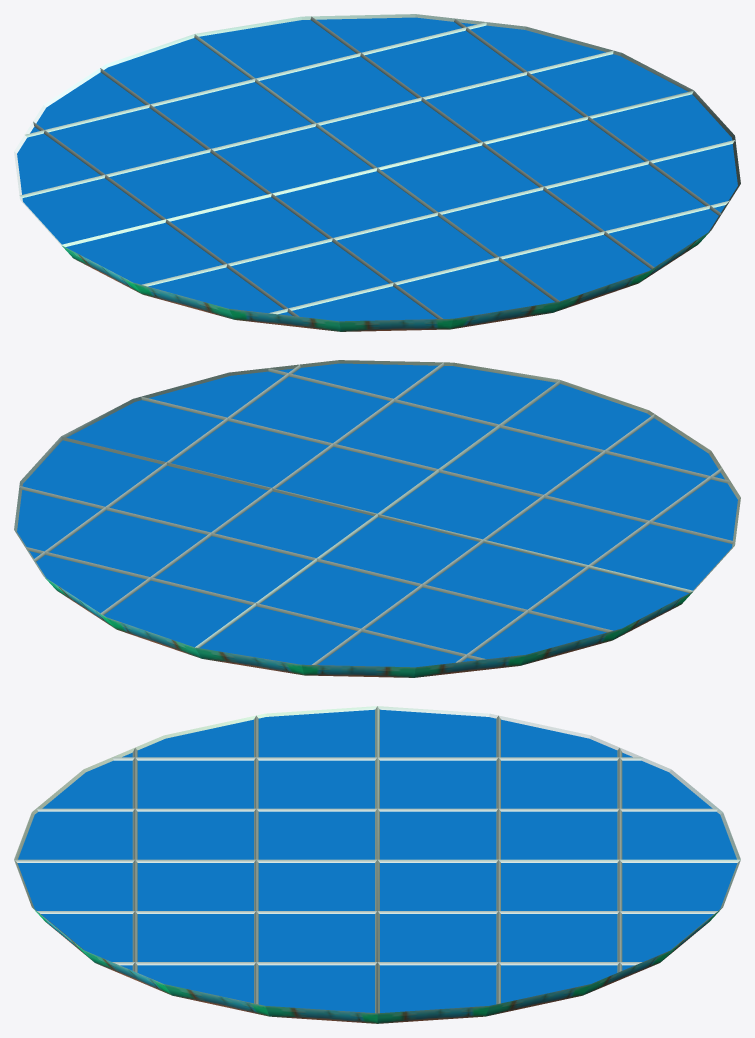
File: mirrorl.dae
3 views of the same model, one above another, from view 1: azimuth 30°, elevation 25°; view 2: azimuth 150°, elevation 25°; view 3: azimuth 270°, elevation 25° (orthographic).
Visible parts, largest first — view 1: m0, m1; view 2: m0, m1; view 3: m0, m1.
Part boxes in pixels (<box>): m0: <box>14,14,740,321</box>; m1: <box>61,231,710,331</box>; m0: <box>14,360,740,667</box>; m1: <box>44,577,693,677</box>; m0: <box>14,706,740,1013</box>; m1: <box>32,907,722,1023</box>.
Bounding box in the file's own units: 3000 × 510 × 3000.
2 materials, 1 textured.
